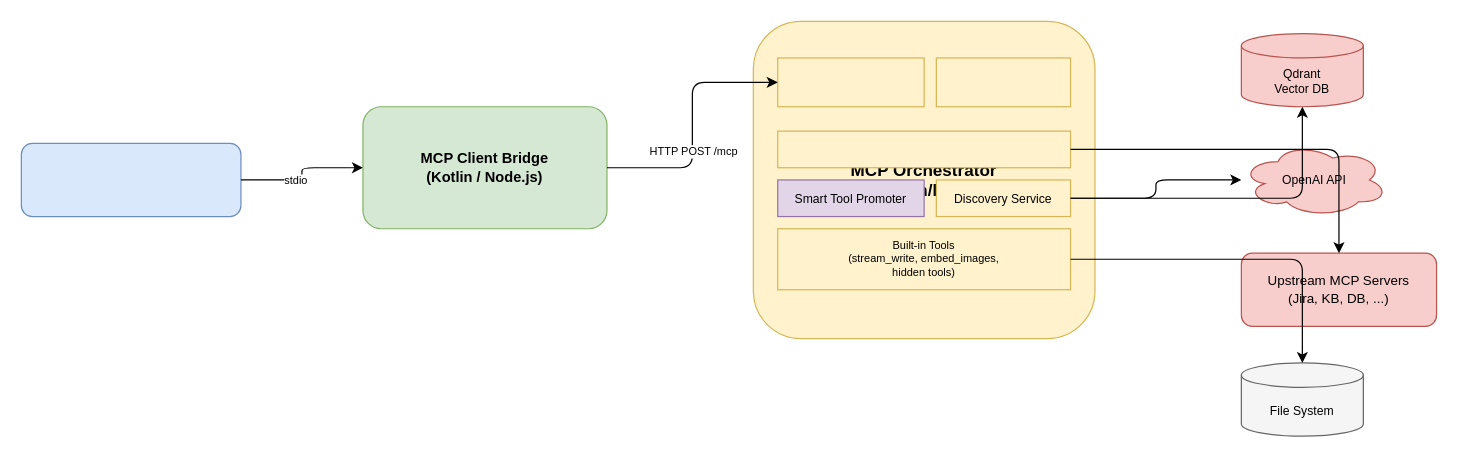
Image size: 1458x458. Some labels were removed from this diagram. The shapes that lost their labels are listed below. From the top down, each one's centre as x and y in pixels, then its label:
At [850,82]: "HTTP Streamable Transport".
At [1003,82]: "stdio Transport".
At [924,149]: "McpProtocolHandler".
At [130,179]: "IDE (Kiro/Cursor)".
